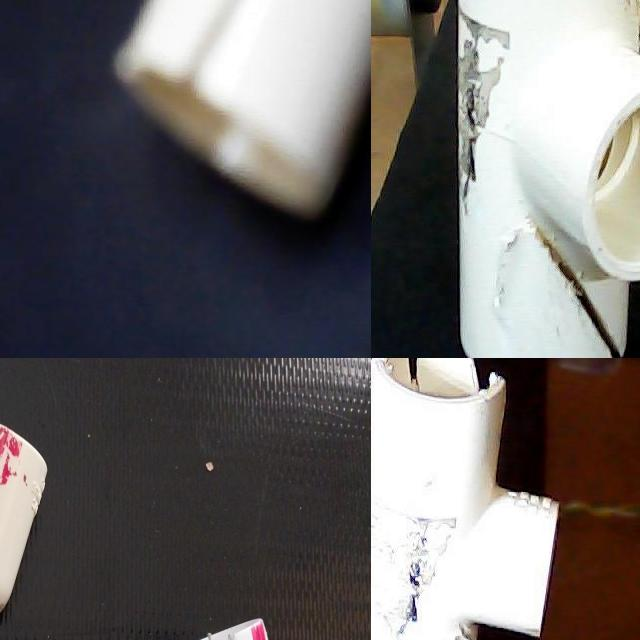Defective: (154, 0, 322, 110), (517, 211, 640, 358), (448, 0, 515, 215), (371, 496, 456, 640), (541, 235, 620, 358), (385, 358, 511, 429), (25, 508, 98, 562), (150, 405, 204, 473), (11, 439, 78, 461)
L Joint: (4, 358, 196, 597)
T Joint: (457, 0, 640, 358), (371, 358, 560, 640)
